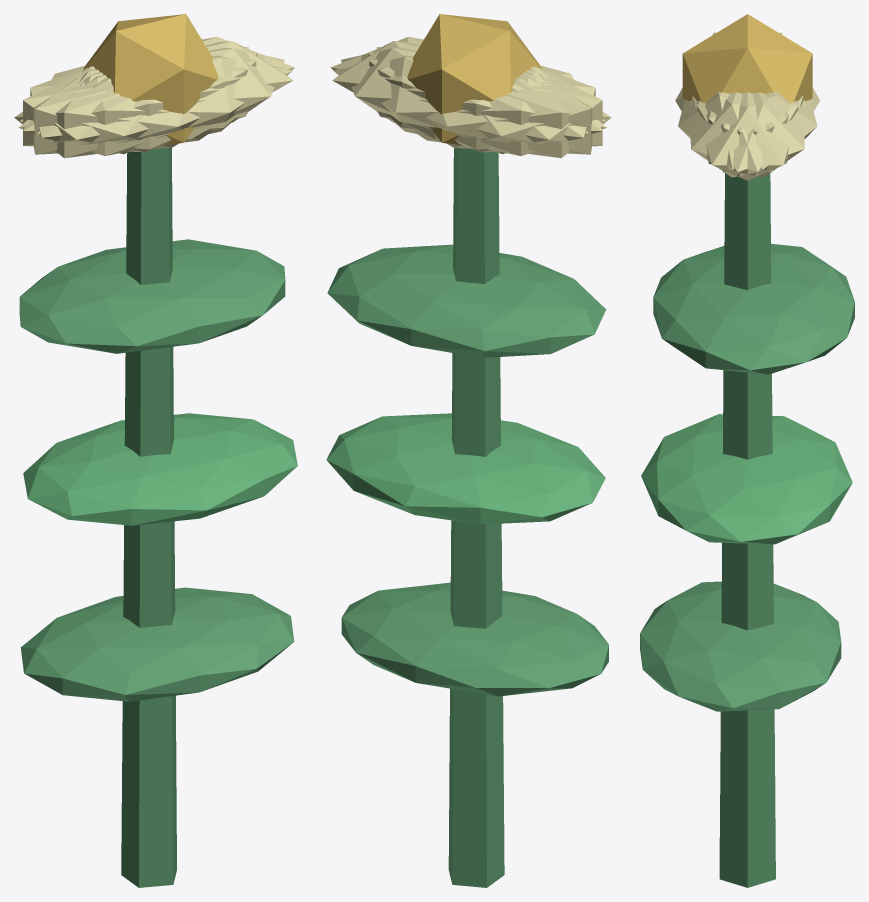
File: spathiphyllum-wallisii.glb
3 renders of one model, left to right at view 1: azimuth 30°, elevation 25°; view 2: azimuth 150°, elevation 25°; view 3: azimuth 270°, elevation 25°, orthographic.
Parts seen in each view (by area): view 1: stem, leaf0, leaf1, leaf2, center, petal1, petal6, petal2, petal5, petal7, petal0, petal4 (+2 smaller); view 2: stem, leaf2, leaf1, leaf0, center, petal8, petal3, petal7, petal4, petal2, petal0, petal5 (+2 smaller); view 3: stem, leaf1, leaf2, leaf0, center, petal0, petal5, petal4, petal8, petal1.
Boxes of the visible parts, box(x1,y1,x2,y2) form: stem: box(121, 148, 176, 887); leaf0: box(20, 587, 294, 701); leaf1: box(23, 413, 297, 525); leaf2: box(19, 239, 285, 353); center: box(83, 14, 218, 144); petal1: box(18, 55, 292, 155); petal6: box(14, 68, 212, 158); petal2: box(33, 47, 249, 154); petal5: box(37, 47, 284, 149); petal7: box(23, 52, 257, 152); petal0: box(83, 41, 293, 139); petal4: box(20, 36, 294, 131); stem: box(448, 148, 504, 887); leaf2: box(327, 244, 606, 357); leaf1: box(326, 413, 605, 524); leaf0: box(341, 582, 608, 696); center: box(407, 14, 542, 144); petal8: box(333, 55, 606, 155); petal3: box(413, 68, 611, 158); petal7: box(376, 47, 592, 154); petal4: box(341, 48, 588, 149); petal2: box(368, 52, 602, 152); petal0: box(332, 41, 542, 139); petal5: box(330, 36, 605, 131); stem: box(719, 173, 775, 887); leaf1: box(641, 414, 852, 544); leaf2: box(653, 243, 854, 374); leaf0: box(640, 581, 841, 711); center: box(682, 14, 812, 102); petal0: box(692, 92, 803, 180); petal5: box(690, 92, 798, 177); petal4: box(697, 92, 804, 177); petal8: box(706, 92, 817, 169); petal1: box(678, 92, 788, 169).
Size of the model in its own units: 0.1452 by 0.4394 by 0.1013.
